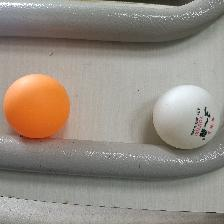WhiteBall: (152, 84, 219, 149)
YellowBall: (3, 73, 70, 138)
